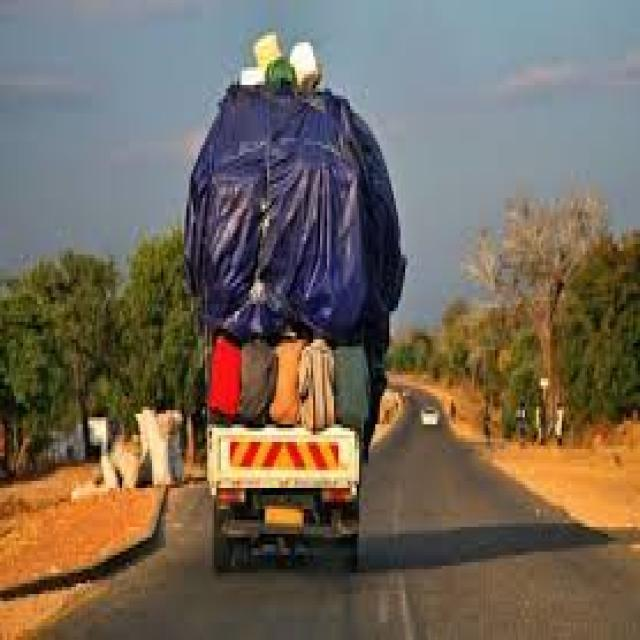covered: (190, 58, 384, 566)
